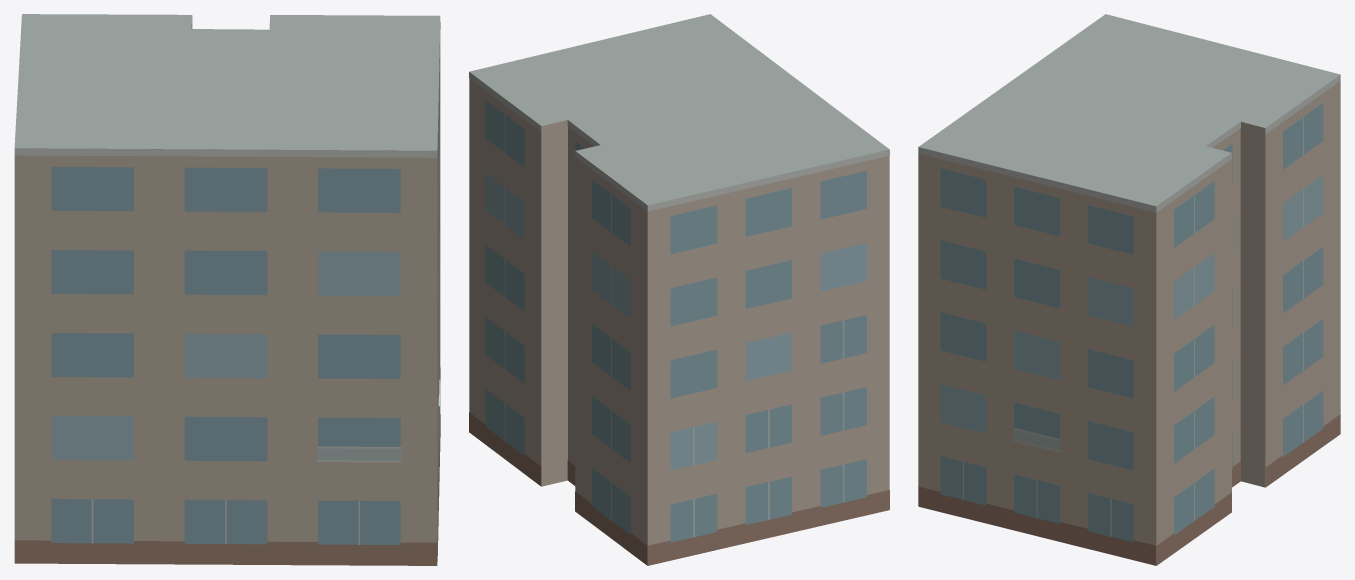
Rendered from survey-upis-32884253.glb.
3 renders of one model, left to right at view 1: azimuth 30°, elevation 25°; view 2: azimuth 150°, elevation 25°; view 3: azimuth 270°, elevation 25°, orthographic. The views are drawn at different scales.
Visible parts, largest first — view 1: survey-upis-32884253.tmp; view 2: survey-upis-32884253.tmp; view 3: survey-upis-32884253.tmp.
Part boxes in pixels (x1,y1,x2,y2): survey-upis-32884253.tmp: (14,14,440,565); survey-upis-32884253.tmp: (469,14,889,565); survey-upis-32884253.tmp: (918,14,1340,565).
Size of the model in its own units: 16.19 by 14.1 by 15.02.
